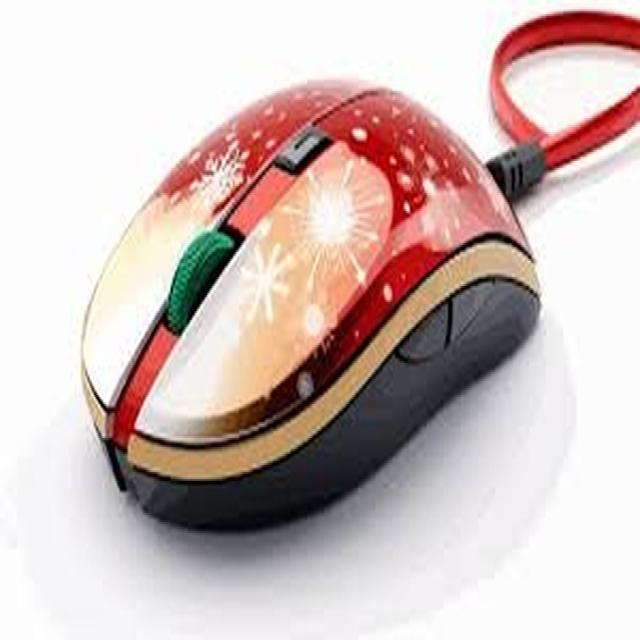mouse: (44, 56, 560, 522)
